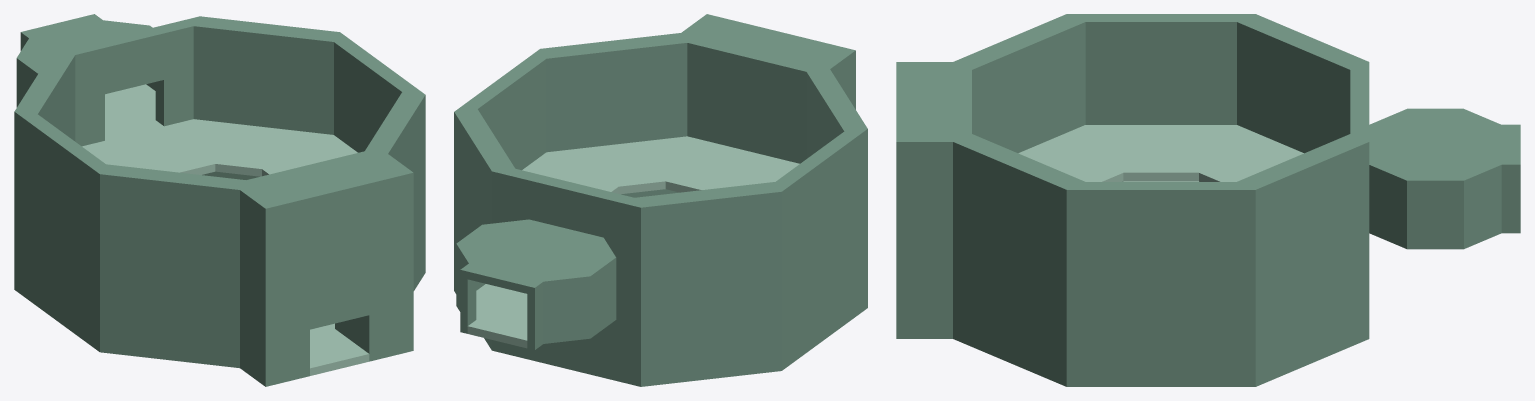
File: dungeon_a.glb
The picture shows the model from 3 angles, left to right: view 1: azimuth 30°, elevation 25°; view 2: azimuth 150°, elevation 25°; view 3: azimuth 270°, elevation 25°; orthographic projection. The views are drawn at different scales.
Visible parts, largest first — view 1: WallMain, UpFloor, BossWall, BottomFloor; view 2: WallMain, BossWall, UpFloor; view 3: WallMain, BossWall, UpFloor.
Part boxes in pixels (left/top/right/bottom): WallMain: left=14, top=16, right=425, bottom=386; UpFloor: left=82, top=84, right=357, bottom=176; BossWall: left=16, top=14, right=155, bottom=107; BottomFloor: left=310, top=323, right=369, bottom=375; WallMain: left=454, top=14, right=867, bottom=386; BossWall: left=456, top=219, right=616, bottom=350; UpFloor: left=467, top=136, right=799, bottom=348; WallMain: left=896, top=14, right=1369, bottom=386; BossWall: left=1369, top=108, right=1520, bottom=249; UpFloor: left=1018, top=125, right=1303, bottom=181.
Bounding box in the file's own units: 44 × 23 × 66.
